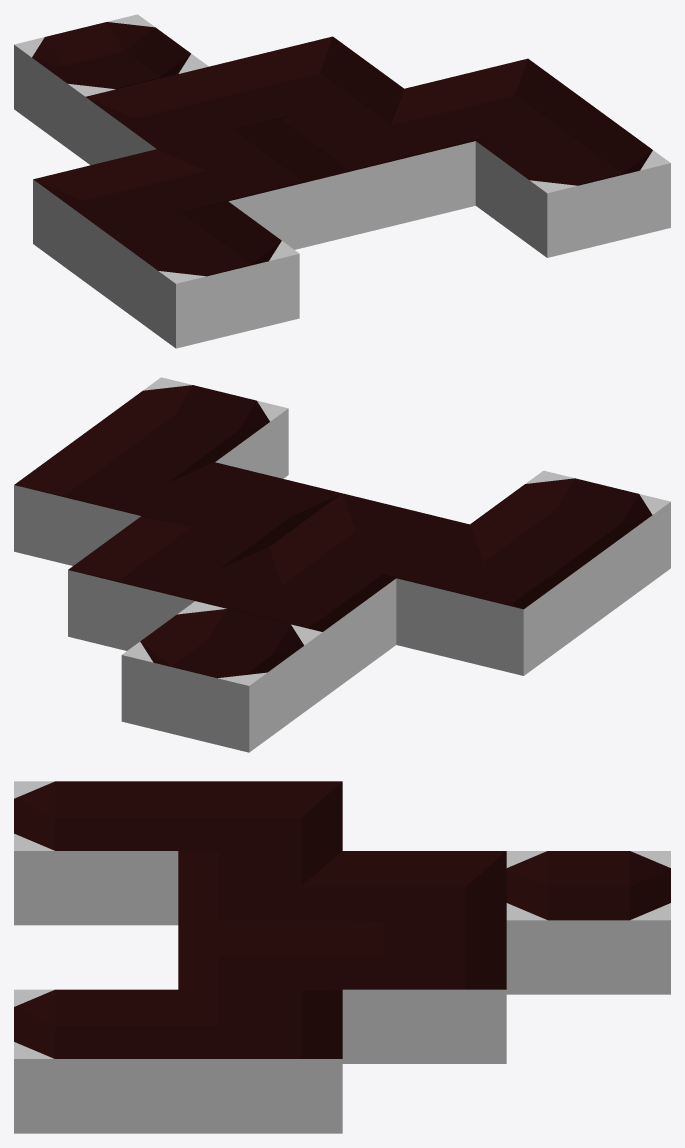
Rendered from 41s_path.obj.
The picture shows the model from 3 angles, top to bottom: view 1: azimuth 30°, elevation 25°; view 2: azimuth 150°, elevation 25°; view 3: azimuth 270°, elevation 25°; orthographic projection. The views are drawn at different scales.
Visible parts, largest first — view 1: ending.1.0_ending.461, ending.4.0_ending.462, corner.3.1_corner.1142, corner.1.1_corner.1139, corner.2.1_corner.1140, hole.2.3_Cube.232, corner.2.2_corner.1141, corner.3.2_corner.1143, corner.4.1_corner.1144; view 2: hole.2.3_Cube.232, corner.1.1_corner.1139, ending.1.0_ending.461, corner.4.1_corner.1144, corner.3.2_corner.1143, ending.4.0_ending.462, corner.2.1_corner.1140, corner.2.2_corner.1141, corner.3.1_corner.1142; view 3: ending.1.0_ending.461, ending.4.0_ending.462, hole.2.3_Cube.232, corner.4.1_corner.1144, corner.3.2_corner.1143, corner.1.1_corner.1139, corner.3.1_corner.1142, corner.2.2_corner.1141, corner.2.1_corner.1140.
Part boxes in pixels (x1,y1,x2,y2): ending.1.0_ending.461: (104, 201, 299, 348); ending.4.0_ending.462: (475, 111, 670, 257); corner.3.1_corner.1142: (281, 89, 475, 235); corner.1.1_corner.1139: (33, 149, 227, 295); corner.2.1_corner.1140: (157, 119, 351, 249); hole.2.3_Cube.232: (14, 14, 208, 160); corner.2.2_corner.1141: (85, 66, 279, 165); corner.3.2_corner.1143: (209, 36, 403, 127); corner.4.1_corner.1144: (404, 58, 599, 149); hole.2.3_Cube.232: (121, 601, 322, 752); corner.1.1_corner.1139: (396, 525, 597, 675); ending.1.0_ending.461: (470, 470, 670, 621); corner.4.1_corner.1144: (14, 431, 214, 565); corner.3.2_corner.1143: (68, 516, 268, 650); ending.4.0_ending.462: (88, 377, 288, 478); corner.2.1_corner.1140: (269, 493, 469, 586); corner.2.2_corner.1141: (197, 547, 396, 698); corner.3.1_corner.1142: (142, 462, 341, 555); ending.1.0_ending.461: (14, 781, 178, 925); ending.4.0_ending.462: (14, 989, 178, 1133); hole.2.3_Cube.232: (506, 851, 670, 994); corner.4.1_corner.1144: (178, 990, 342, 1133); corner.3.2_corner.1143: (342, 920, 506, 1063); corner.1.1_corner.1139: (178, 781, 342, 869); corner.3.1_corner.1142: (178, 920, 342, 1008); corner.2.2_corner.1141: (342, 851, 506, 938); corner.2.1_corner.1140: (178, 851, 342, 920).
Bounding box in the file's own units: 8 × 1 × 8.
